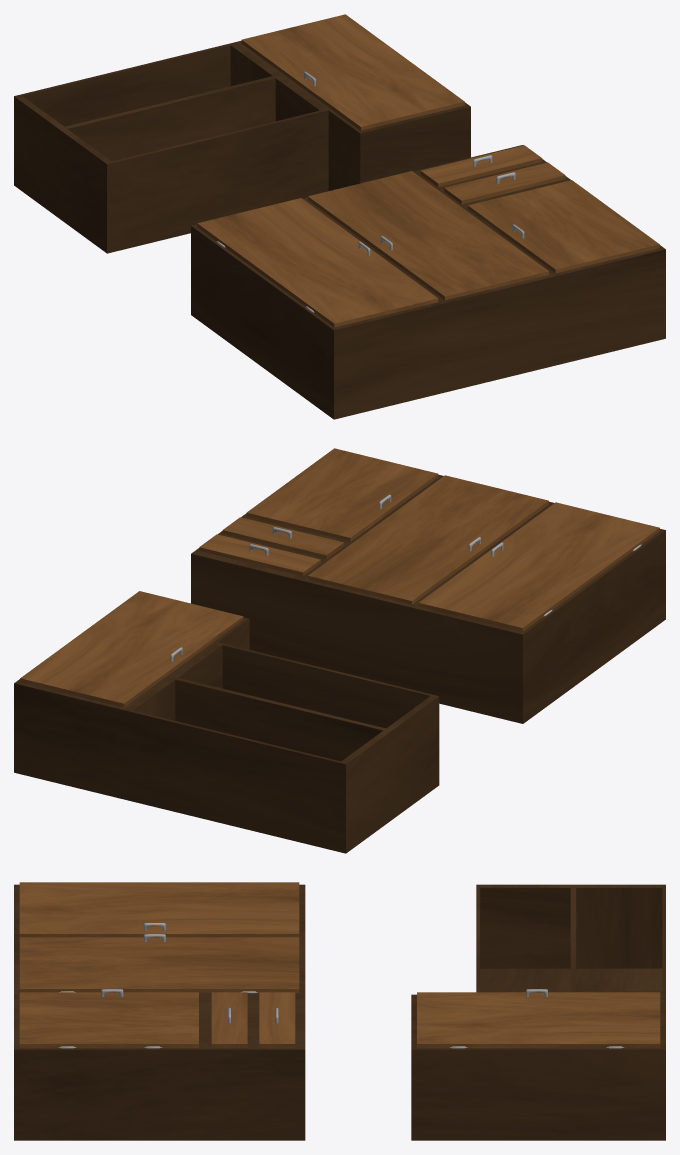
Rendered from ArmarioDeCocina.fbx.
3 renders of one model, top to bottom at view 1: azimuth 30°, elevation 25°; view 2: azimuth 150°, elevation 25°; view 3: azimuth 270°, elevation 25°, orthographic.
Visible parts, largest first — view 1: ArmarioCocinaCuerpo, ArmarioCocinaPuertaGrandeIzq, ArmarioCocinaPuertaGrandeDer, ArmarioCocinaPuertaMediana, ArmarioCocinaPuertaPequeña, ArmarioCocinaCajonSup, ArmarioCocinaCajonInf; view 2: ArmarioCocinaCuerpo, ArmarioCocinaPuertaGrandeIzq, ArmarioCocinaPuertaGrandeDer, ArmarioCocinaPuertaMediana, ArmarioCocinaPuertaPequeña, ArmarioCocinaCajonSup, ArmarioCocinaCajonInf; view 3: ArmarioCocinaCuerpo, ArmarioCocinaPuertaGrandeDer, ArmarioCocinaPuertaGrandeIzq, ArmarioCocinaPuertaMediana, ArmarioCocinaPuertaPequeña, ArmarioCocinaCajonSup, ArmarioCocinaCajonInf.
Boxes of the visible parts, box(x1,y1,x2,y2) form: ArmarioCocinaCuerpo: box(14, 40, 665, 419); ArmarioCocinaPuertaGrandeIzq: box(197, 198, 438, 327); ArmarioCocinaPuertaGrandeDer: box(308, 171, 548, 300); ArmarioCocinaPuertaMediana: box(241, 14, 464, 130); ArmarioCocinaPuertaPequeña: box(468, 180, 659, 273); ArmarioCocinaCajonSup: box(420, 145, 542, 187); ArmarioCocinaCajonInf: box(444, 162, 565, 204); ArmarioCocinaCuerpo: box(14, 474, 665, 853); ArmarioCocinaPuertaGrandeIzq: box(418, 502, 659, 631); ArmarioCocinaPuertaGrandeDer: box(308, 475, 548, 604); ArmarioCocinaPuertaMediana: box(20, 591, 243, 707); ArmarioCocinaPuertaPequeña: box(246, 448, 438, 541); ArmarioCocinaCajonSup: box(199, 534, 320, 576); ArmarioCocinaCajonInf: box(222, 517, 344, 558); ArmarioCocinaCuerpo: box(14, 884, 665, 1140); ArmarioCocinaPuertaGrandeDer: box(19, 934, 299, 993); ArmarioCocinaPuertaGrandeIzq: box(19, 882, 299, 937); ArmarioCocinaPuertaMediana: box(417, 989, 660, 1048); ArmarioCocinaPuertaPequeña: box(19, 989, 198, 1048); ArmarioCocinaCajonSup: box(259, 992, 295, 1047); ArmarioCocinaCajonInf: box(211, 992, 247, 1047).
Size of the model in its own units: 148 by 42.65 by 247.
